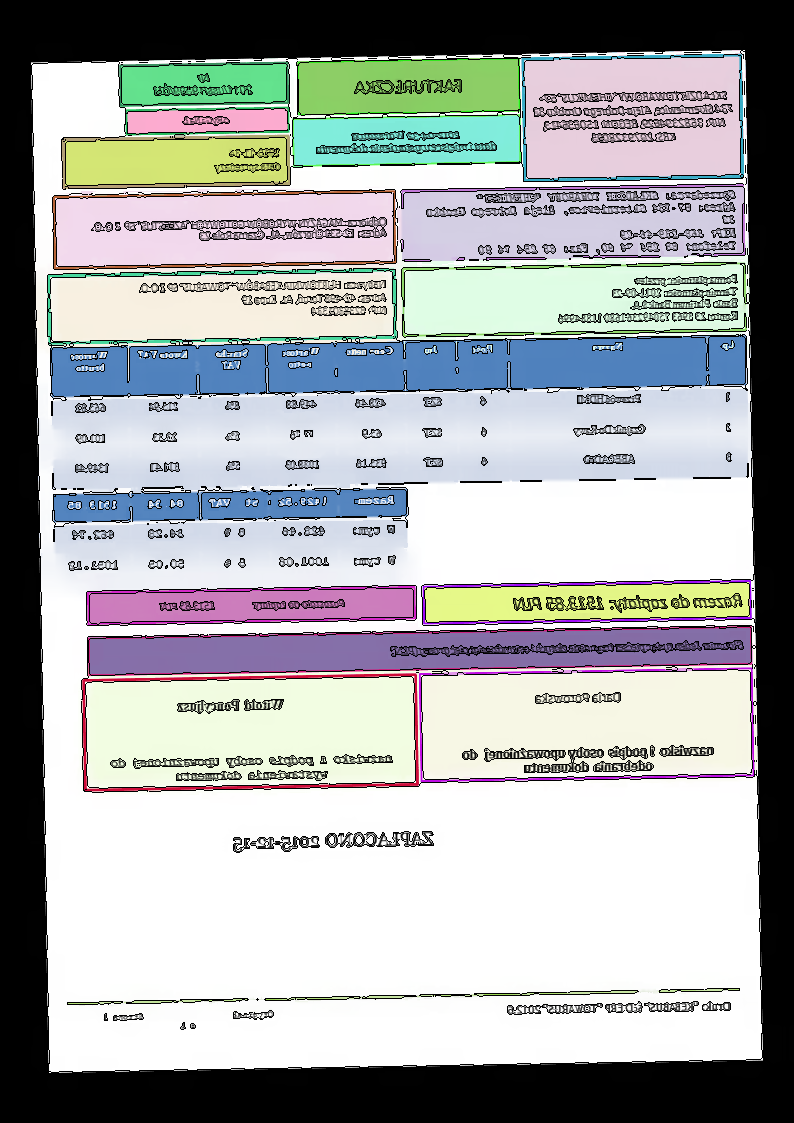Table: (49, 333, 750, 491), (51, 487, 412, 585)
TextBox: (423, 185, 739, 257), (531, 86, 736, 147), (137, 277, 389, 320), (555, 270, 742, 325), (111, 751, 397, 785), (389, 634, 747, 661), (89, 215, 389, 245), (460, 744, 718, 777), (512, 587, 746, 613), (312, 127, 500, 157), (231, 829, 438, 856), (503, 995, 734, 1018), (99, 1009, 276, 1033), (158, 595, 349, 613), (152, 68, 257, 99), (351, 76, 466, 98), (173, 695, 287, 715), (213, 145, 283, 174), (532, 686, 625, 706), (179, 112, 233, 126)
